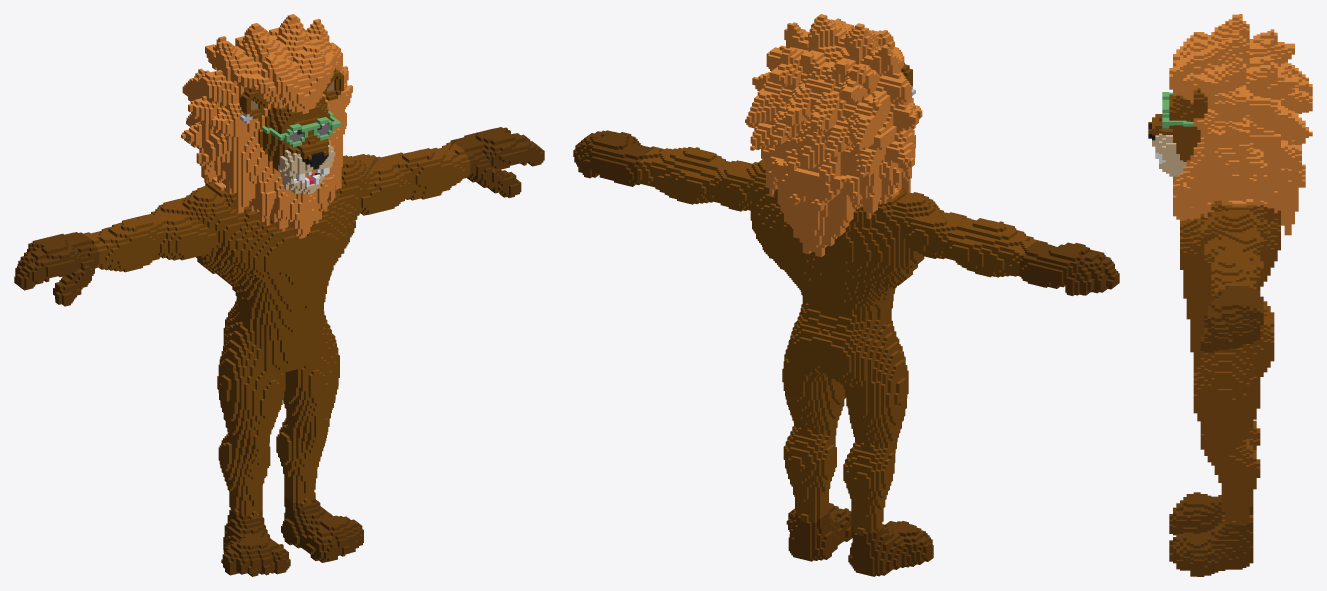
The model's file is 355-CVt_tXcJ.glb.
3 renders of one model, left to right at view 1: azimuth 30°, elevation 25°; view 2: azimuth 150°, elevation 25°; view 3: azimuth 270°, elevation 25°, orthographic. The views are drawn at different scales.
Parts seen in each view (by area): view 1: open; view 2: open; view 3: open.
Part boxes in pixels (left/top/right/bottom): open: left=14, top=14, right=544, bottom=576; open: left=573, top=14, right=1119, bottom=576; open: left=1148, top=14, right=1312, bottom=576.
Size of the model in its own units: 17.2 by 16.5 by 4.7.
Materials: 5 (5 with a texture image).
